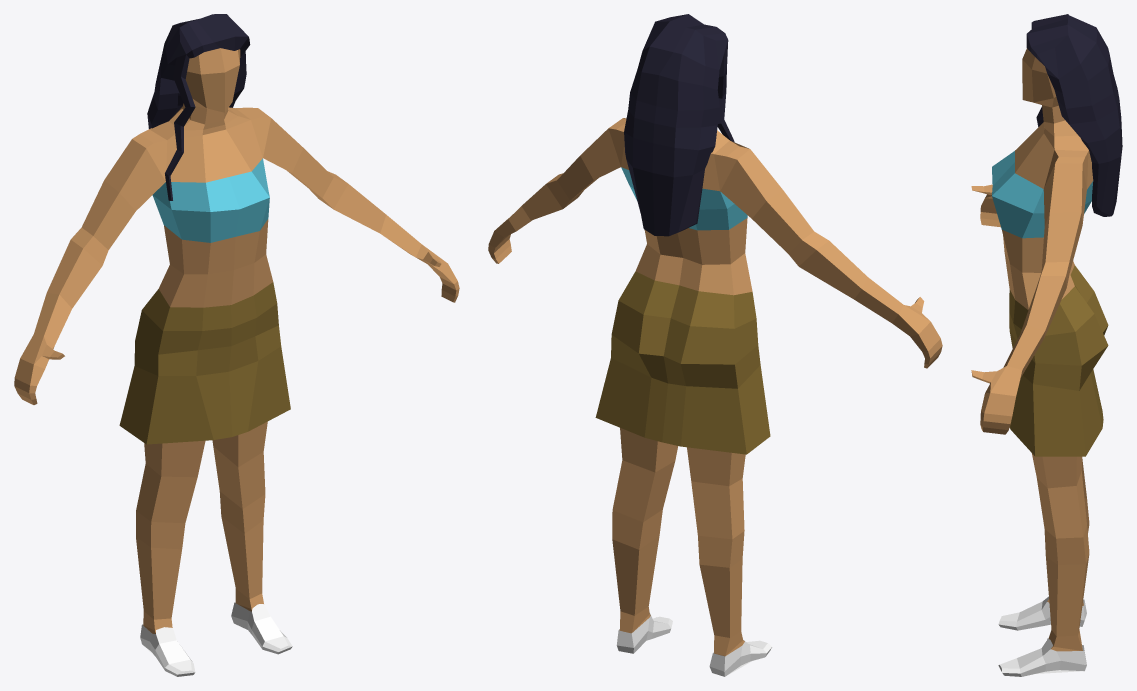
File: female_03_a.fbx
3 views of the same model, side by side, from view 1: azimuth 30°, elevation 25°; view 2: azimuth 150°, elevation 25°; view 3: azimuth 270°, elevation 25° (orthographic). The views are drawn at different scales.
Parts seen in each view (by area): view 1: female_03_a; view 2: female_03_a; view 3: female_03_a.
Boxes of the visible parts, x1,y1,x2,y2 form: female_03_a: (14, 14, 459, 676); female_03_a: (488, 14, 942, 676); female_03_a: (971, 14, 1122, 676).
Size of the model in its own units: 111 by 152 by 33.21.
